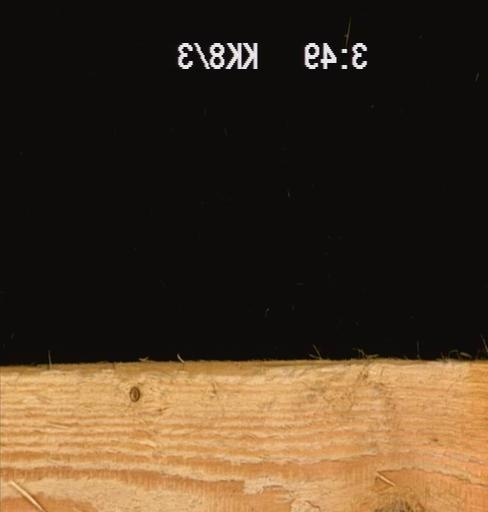dry_knot: (127, 382, 141, 403)
wave: (0, 358, 425, 377)
